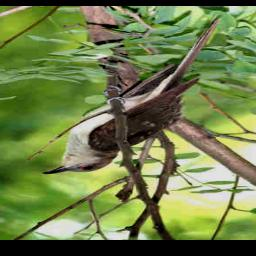Cuckoo: (43, 15, 222, 175)
